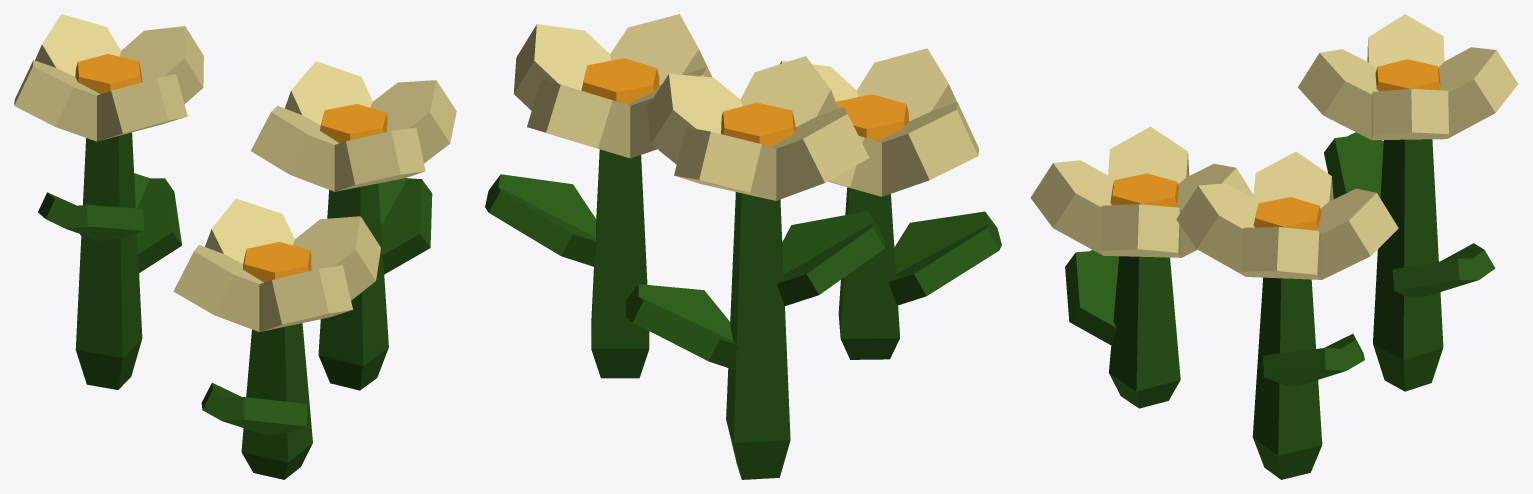
File: ReferenceFlowers.obj
3 views of the same model, side by side, from view 1: azimuth 30°, elevation 25°; view 2: azimuth 150°, elevation 25°; view 3: azimuth 270°, elevation 25° (orthographic). The views are drawn at different scales.
Visible parts, largest first — view 1: FlowerPetals, FlowerLeaves, FlowerCenters; view 2: FlowerLeaves, FlowerPetals, FlowerCenters; view 3: FlowerPetals, FlowerLeaves, FlowerCenters.
Part boxes in pixels (bbox=[...]): FlowerPetals: bbox=[14, 14, 456, 331]; FlowerLeaves: bbox=[38, 132, 432, 479]; FlowerCenters: bbox=[75, 54, 387, 282]; FlowerLeaves: bbox=[485, 149, 1001, 479]; FlowerPetals: bbox=[513, 14, 978, 200]; FlowerCenters: bbox=[581, 58, 908, 146]; FlowerPetals: bbox=[1030, 14, 1518, 279]; FlowerLeaves: bbox=[1065, 132, 1495, 479]; FlowerCenters: bbox=[1110, 59, 1440, 230].
Size of the model in its own units: 0.546 by 0.4616 by 0.6183.
